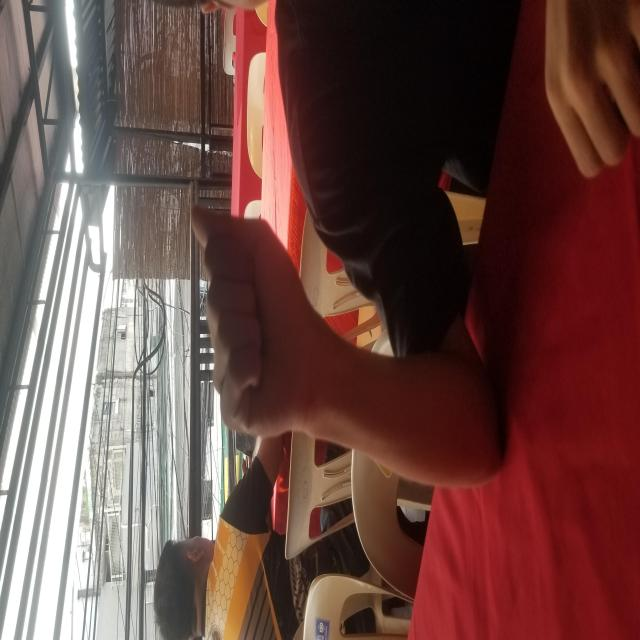A: (199, 190, 443, 314)
